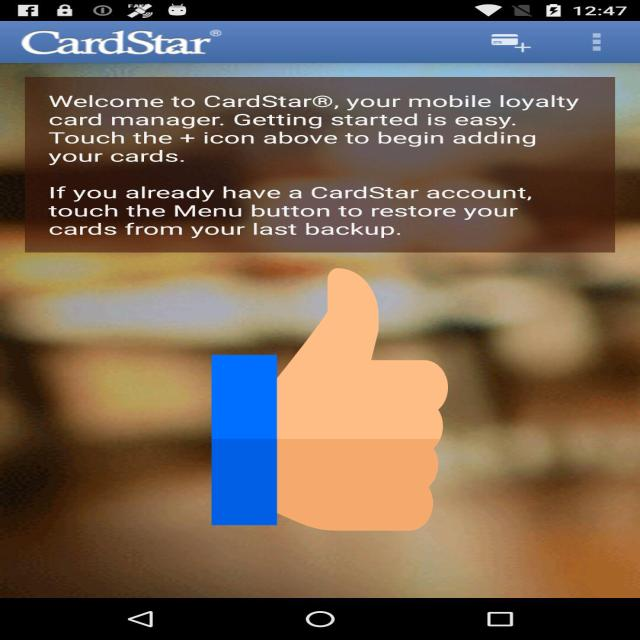privacy zuckering: (212, 262, 448, 537)
